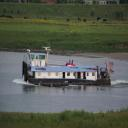tugboat: (23, 47, 113, 89)
